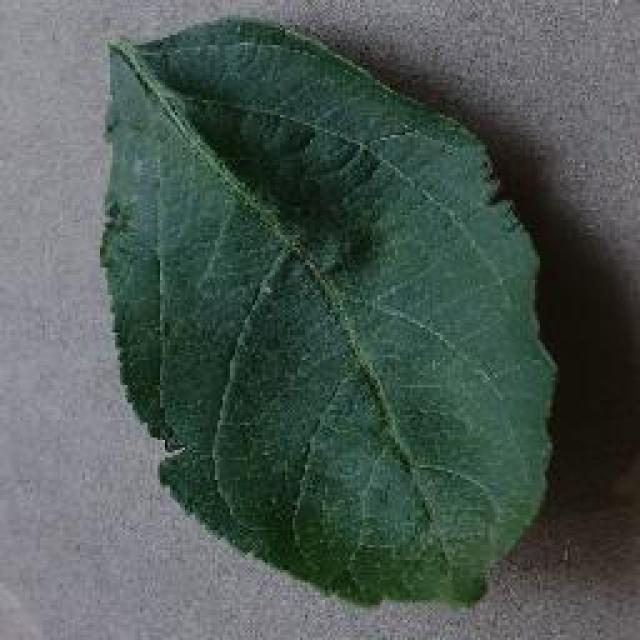apple healthy: (95, 12, 560, 610)
